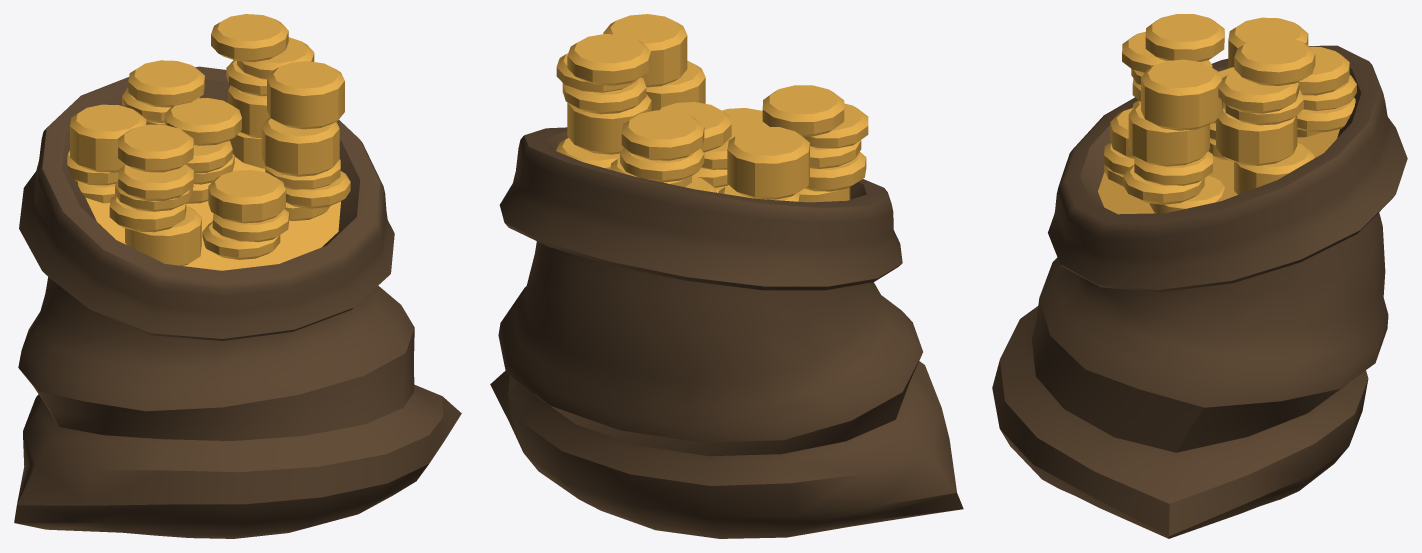
The model's file is goldbag.glb.
The picture shows the model from 3 angles, left to right: view 1: azimuth 30°, elevation 25°; view 2: azimuth 150°, elevation 25°; view 3: azimuth 270°, elevation 25°; orthographic projection. The views are drawn at different scales.
Parts seen in each view (by area): view 1: Prop_GoldBag; view 2: Prop_GoldBag; view 3: Prop_GoldBag.
Part boxes in pixels (x1,y1,x2,y2): Prop_GoldBag: (14,14,461,538); Prop_GoldBag: (490,14,963,538); Prop_GoldBag: (992,14,1407,538).
Bounding box in the file's own units: 0.6661 × 0.6153 × 0.5187.
Materials: 1 (1 with a texture image).
